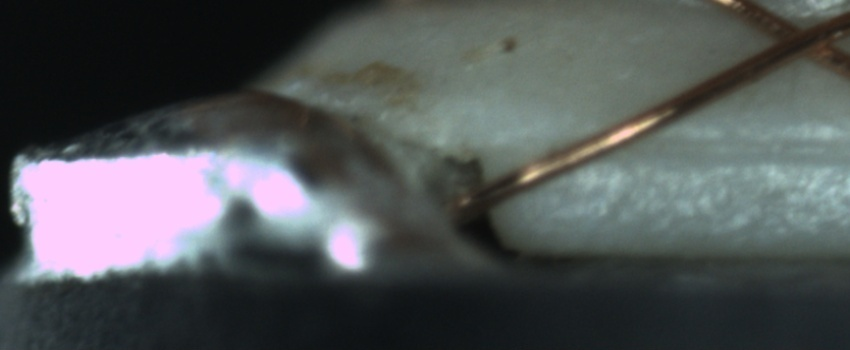CL: (750, 3, 845, 69)
DL: (615, 112, 842, 184)
